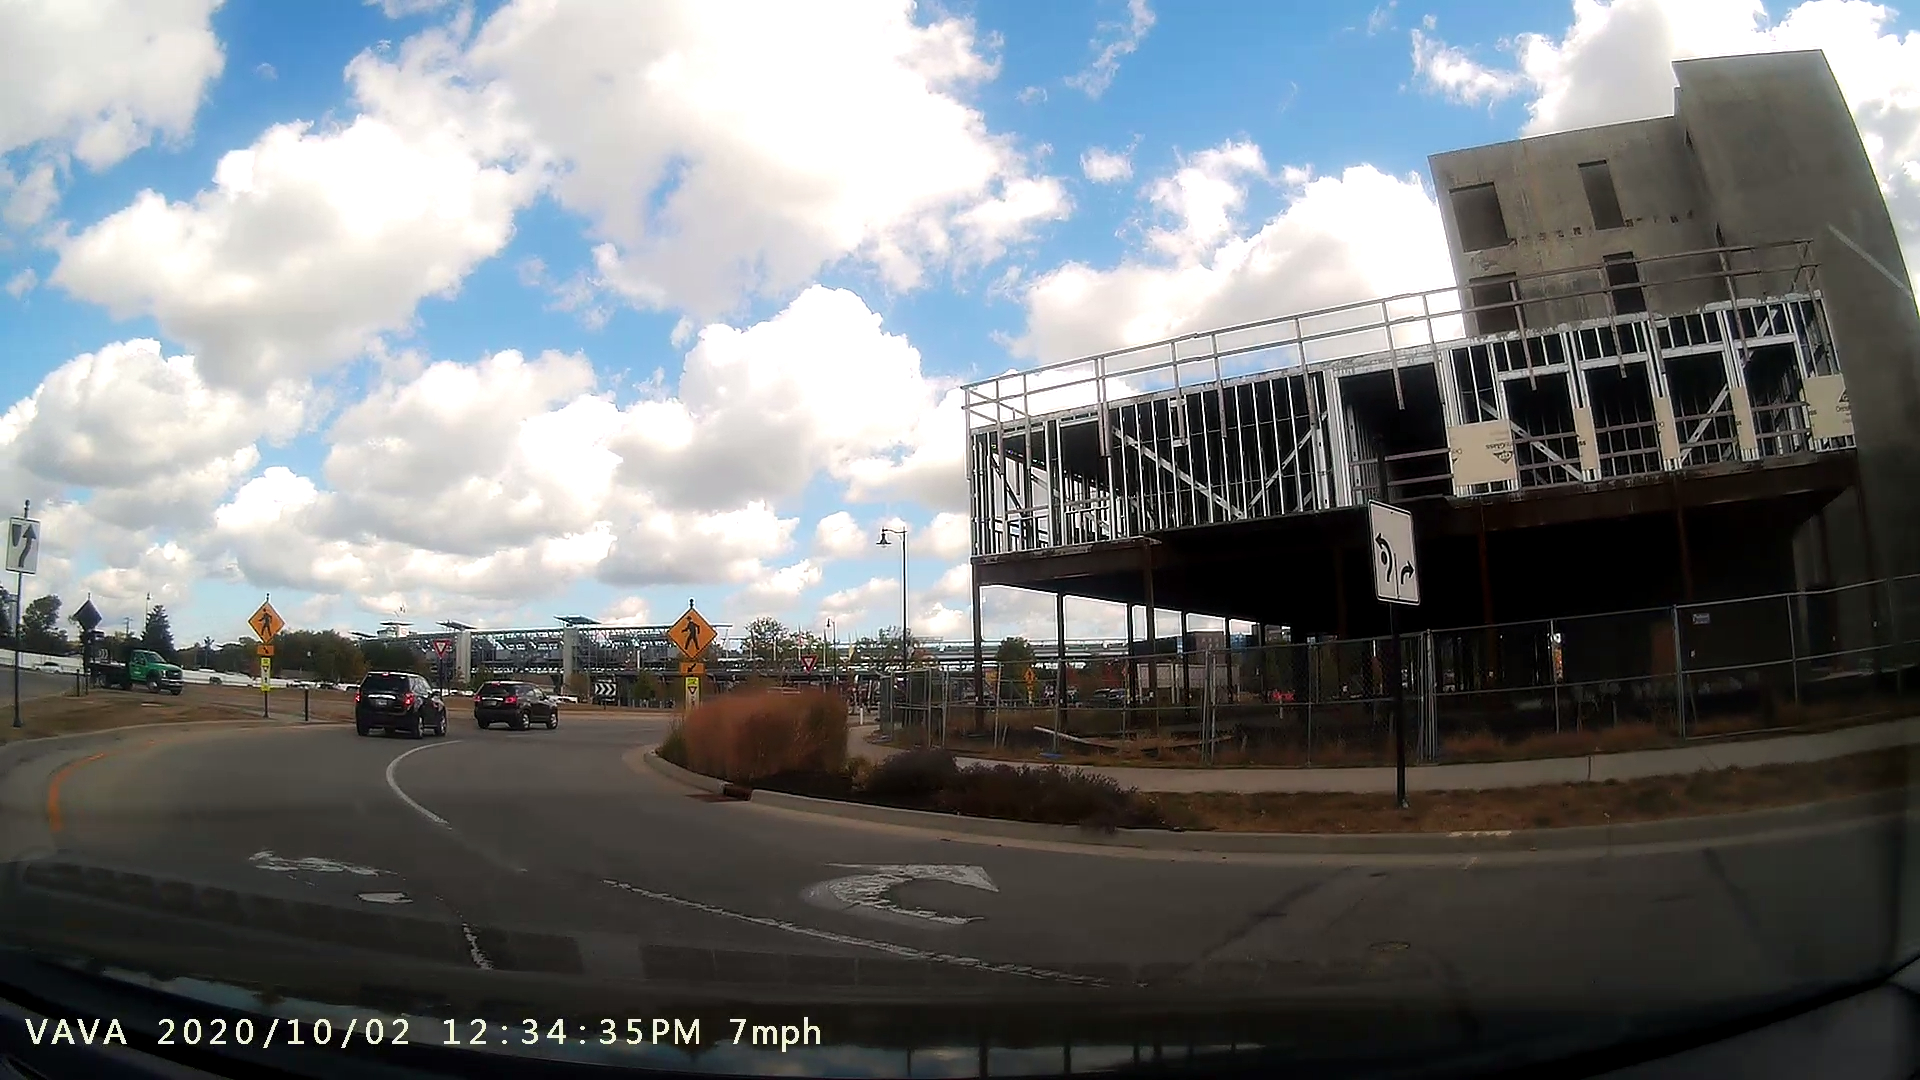right_turn: (790, 843, 1010, 942)
